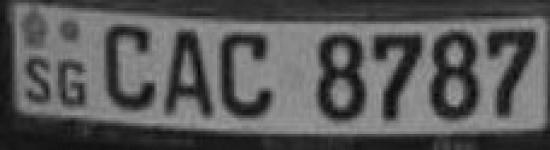7: (370, 30, 424, 126), (486, 22, 539, 119)
8: (426, 25, 483, 125), (314, 29, 370, 127)
A: (162, 27, 215, 122)
C: (99, 20, 163, 114), (220, 30, 278, 124)
G: (54, 53, 92, 112)
S: (22, 52, 56, 106)
